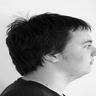ear: (37, 41, 63, 66)
